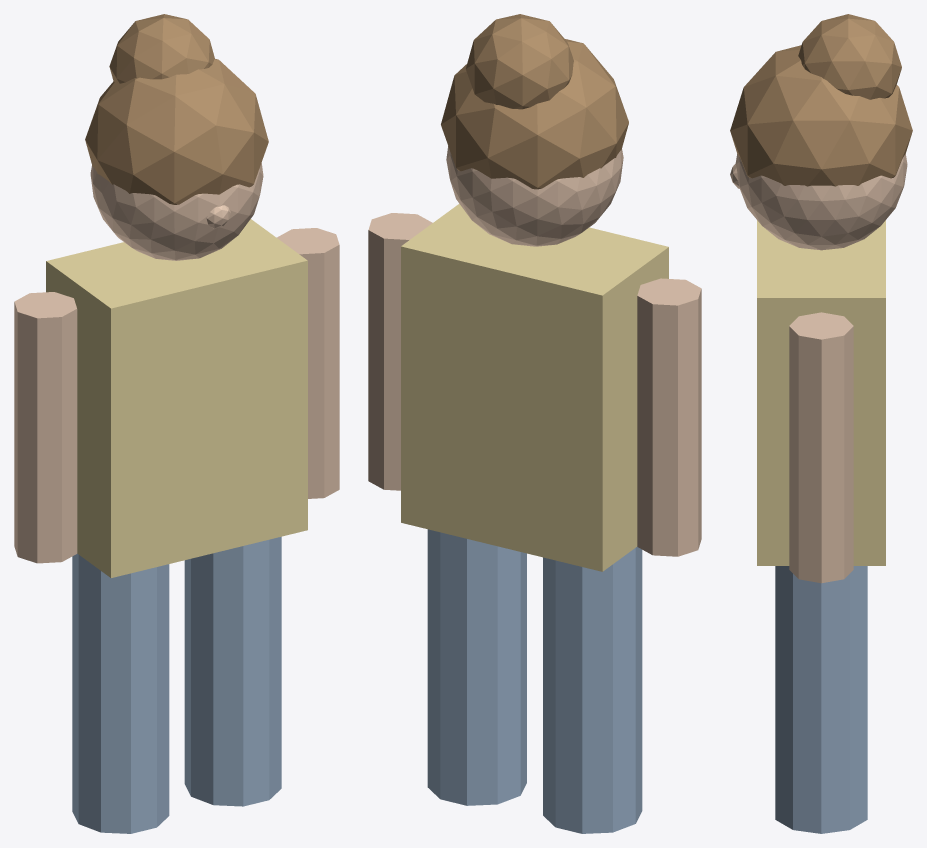
The model's file is sim_toddler_average.glb.
3 renders of one model, left to right at view 1: azimuth 30°, elevation 25°; view 2: azimuth 150°, elevation 25°; view 3: azimuth 270°, elevation 25°, orthographic. The views are drawn at different scales.
Visible parts, largest first — view 1: p002, p000, p001, p006, p003, p004, p005, p007; view 2: p002, p000, p001, p003, p006, p004, p005, p007; view 3: p002, p001, p006, p004, p005, p007.
Part boxes in pixels (bbox=[...]): p002: bbox=[46, 219, 307, 577]; p000: bbox=[72, 553, 169, 833]; p001: bbox=[184, 536, 281, 806]; p006: bbox=[85, 59, 268, 204]; p003: bbox=[14, 292, 77, 563]; p004: bbox=[277, 228, 339, 498]; p005: bbox=[90, 163, 263, 260]; p007: bbox=[109, 14, 214, 83]; p002: bbox=[401, 203, 668, 571]; p000: bbox=[543, 547, 642, 833]; p001: bbox=[427, 529, 526, 805]; p003: bbox=[637, 278, 701, 556]; p006: bbox=[441, 39, 628, 189]; p004: bbox=[368, 213, 432, 490]; p005: bbox=[446, 146, 623, 246]; p007: bbox=[466, 14, 573, 109]; p002: bbox=[757, 220, 885, 565]; p001: bbox=[775, 566, 867, 833]; p006: bbox=[730, 45, 912, 186]; p004: bbox=[789, 312, 853, 583]; p005: bbox=[735, 154, 907, 250]; p007: bbox=[798, 14, 901, 99].
Bounding box in the file's own units: 0.442 × 1.02 × 0.221.
